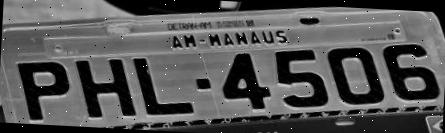placa_antiga: (0, 6, 445, 127)
